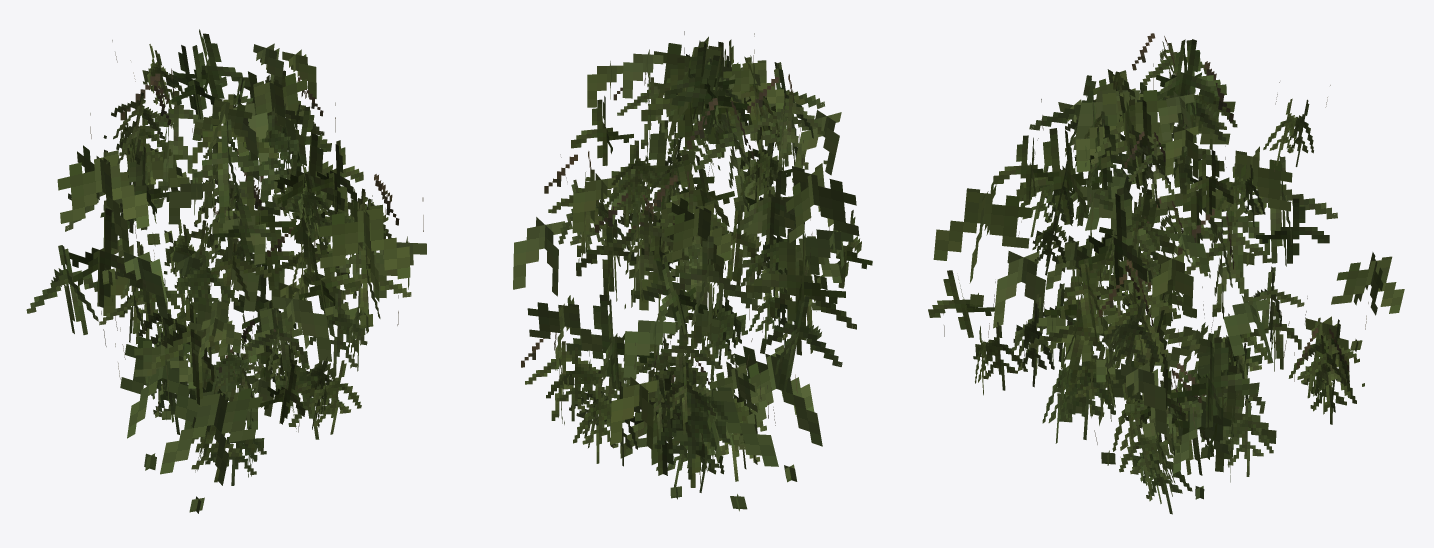
The model's file is evergreen-shrub-lod2.glb.
3 renders of one model, left to right at view 1: azimuth 30°, elevation 25°; view 2: azimuth 150°, elevation 25°; view 3: azimuth 270°, elevation 25°, orthographic. The views are drawn at different scales.
Visible parts, largest first — view 1: impostor; view 2: impostor; view 3: impostor.
Boxes of the visible parts, bbox=[...] form: impostor: bbox=[26, 29, 426, 513]; impostor: bbox=[513, 31, 872, 511]; impostor: bbox=[928, 33, 1404, 514].
Bounding box in the file's own units: 1.02 × 1.15 × 1.13.
1 material, 1 textured.
